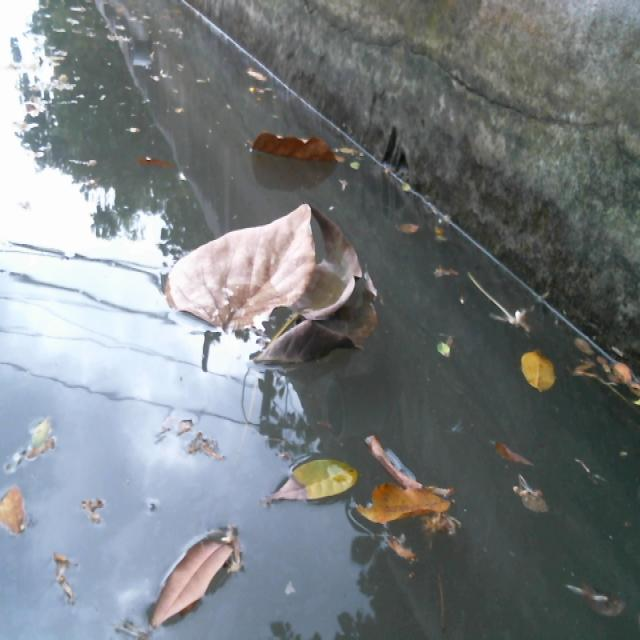Big-leaf: (245, 221, 385, 385), (157, 210, 315, 341), (358, 415, 476, 548), (244, 118, 358, 168)
Small-leaf: (140, 532, 238, 625), (275, 458, 361, 516), (564, 575, 633, 628), (478, 432, 549, 473), (522, 343, 562, 413), (510, 479, 562, 530), (0, 475, 32, 543), (602, 361, 640, 418), (125, 148, 178, 187), (384, 176, 428, 200), (238, 58, 270, 88), (435, 262, 464, 293), (425, 330, 452, 359), (429, 222, 455, 250), (395, 224, 425, 245), (347, 155, 369, 171)
